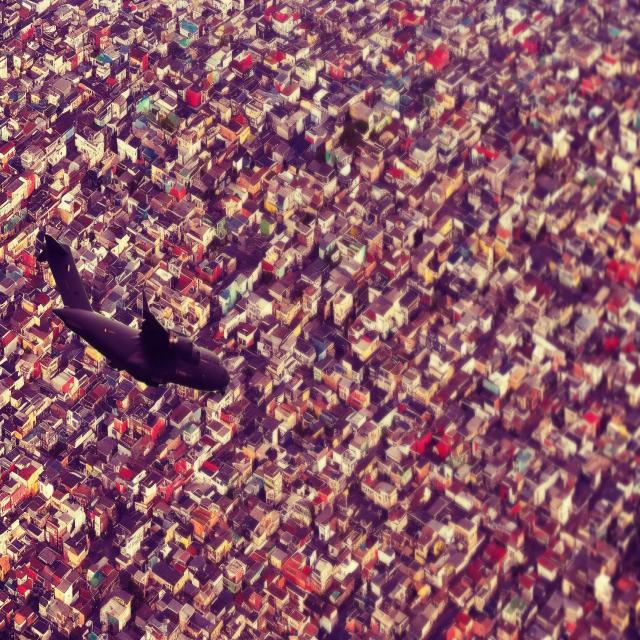airplane: (38, 231, 230, 395)
